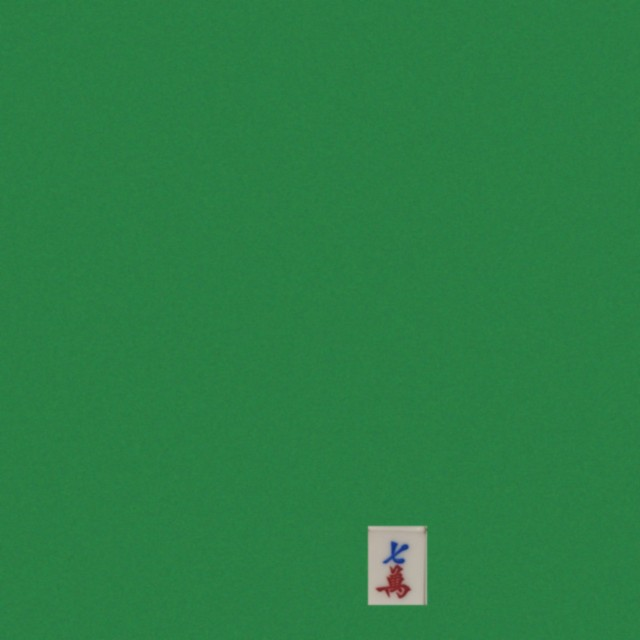tile: (367, 525, 426, 604)
